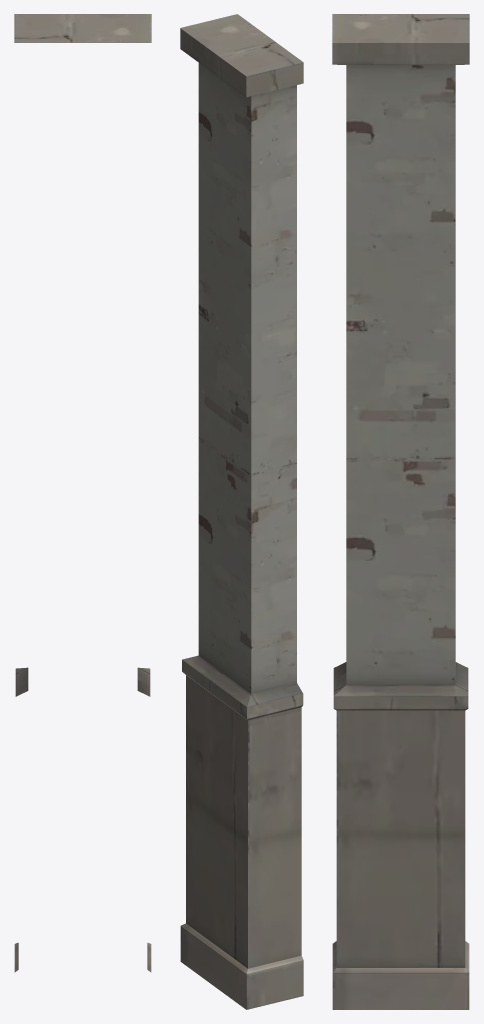
The picture shows the model from 3 angles, left to right: view 1: azimuth 90°, elevation 25°; view 2: azimuth 210°, elevation 25°; view 3: azimuth 270°, elevation 25°; orthographic projection. The views are drawn at different scales.
Parts seen in each view (by area): view 1: body0_model0_lod0_mesh0; view 2: body0_model0_lod0_mesh0; view 3: body0_model0_lod0_mesh0.
Boxes of the visible parts, x1,y1,x2,y2 form: body0_model0_lod0_mesh0: (14, 14, 151, 972); body0_model0_lod0_mesh0: (180, 14, 303, 1009); body0_model0_lod0_mesh0: (332, 14, 469, 1009).
Bounding box in the file's own units: 20.07 × 312 × 40.14.
1 material, 1 textured.
